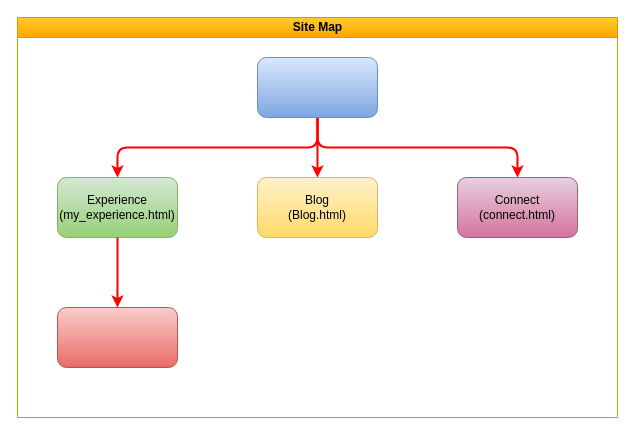
This 635x435 diagram has some shape labels left out. The centre of each missing label's shape, as x and y in pixels:
"Home (index.html)" belongs at [317,87].
"Resume.pdf" belongs at [117,337].
